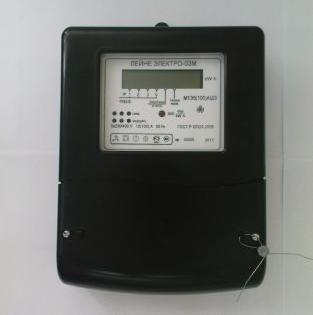counter: (56, 22, 272, 292)
counter_screen: (119, 67, 205, 90)
